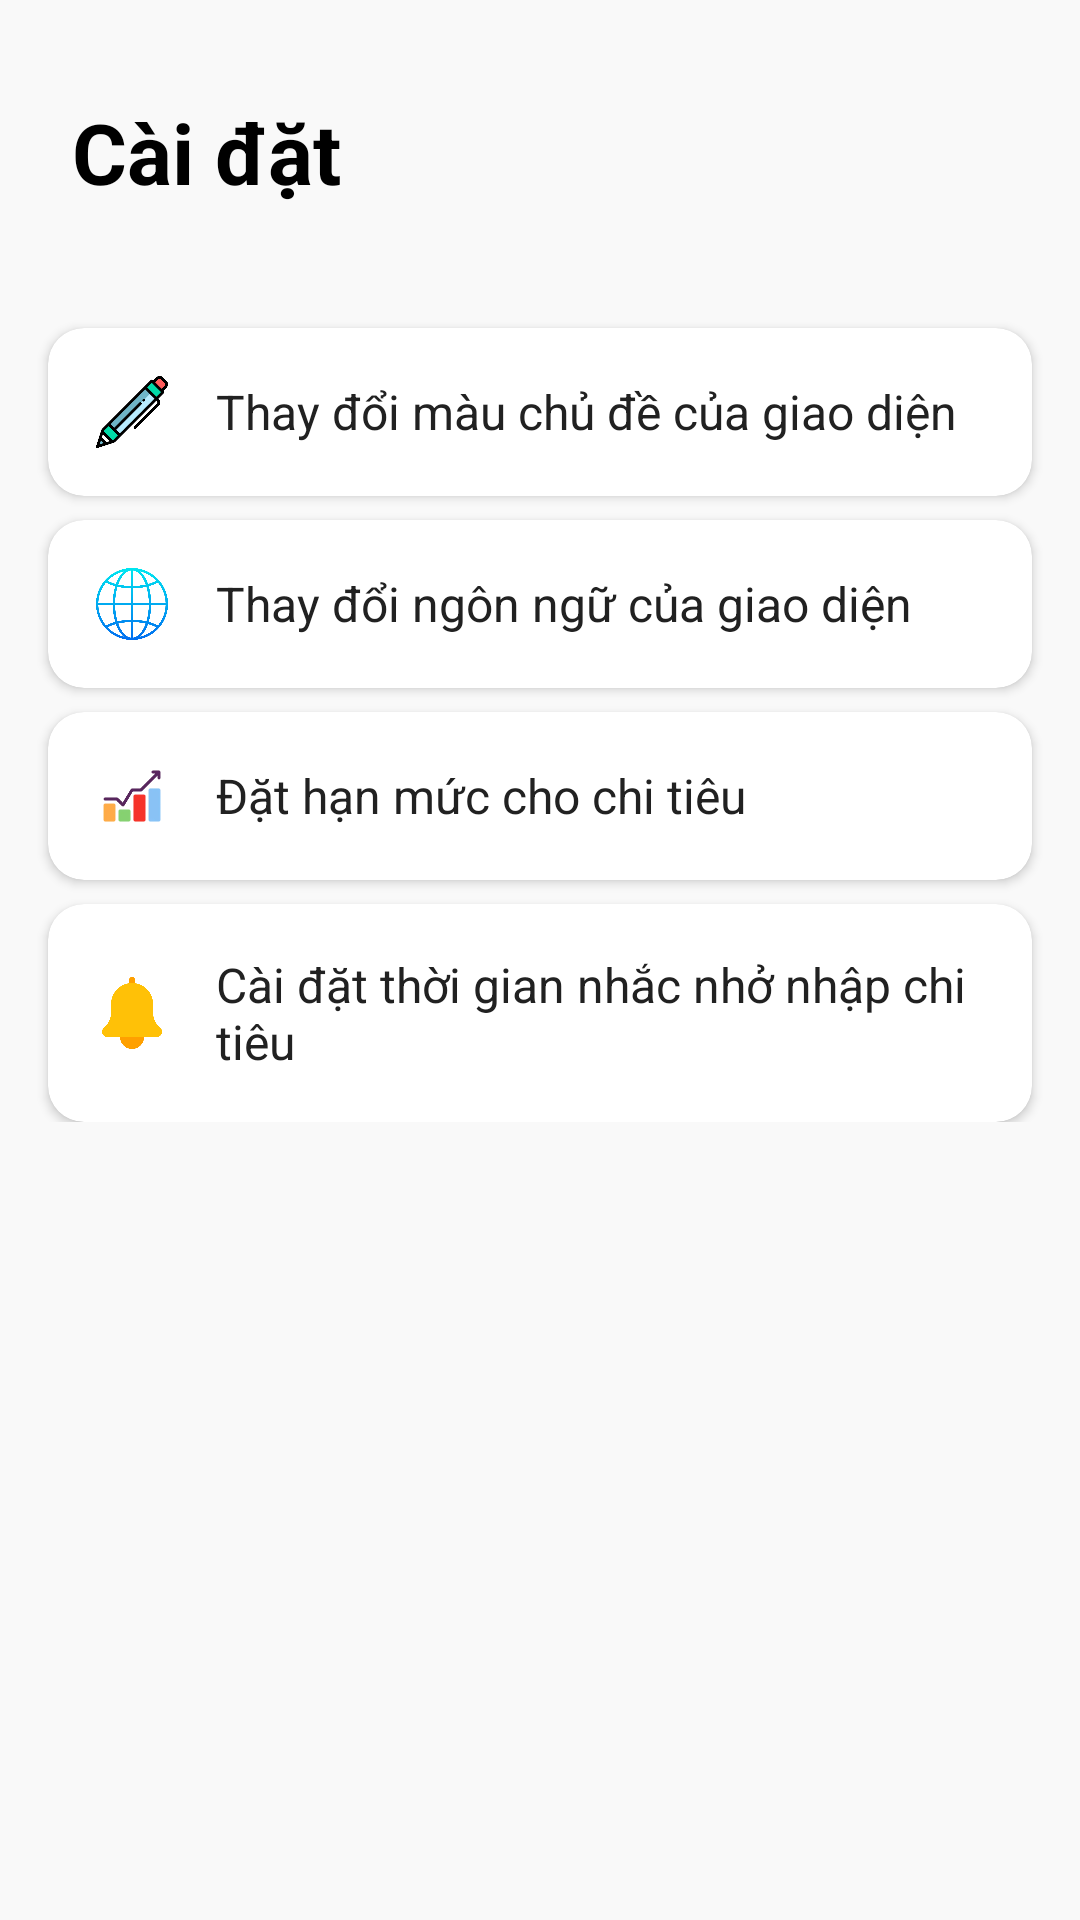

Screen size 1080 x 1920. Icon name, then its center in pixels as [x,y]:
bell: [132,1013]
chart: [132,796]
global: [132,604]
pen: [132,412]
